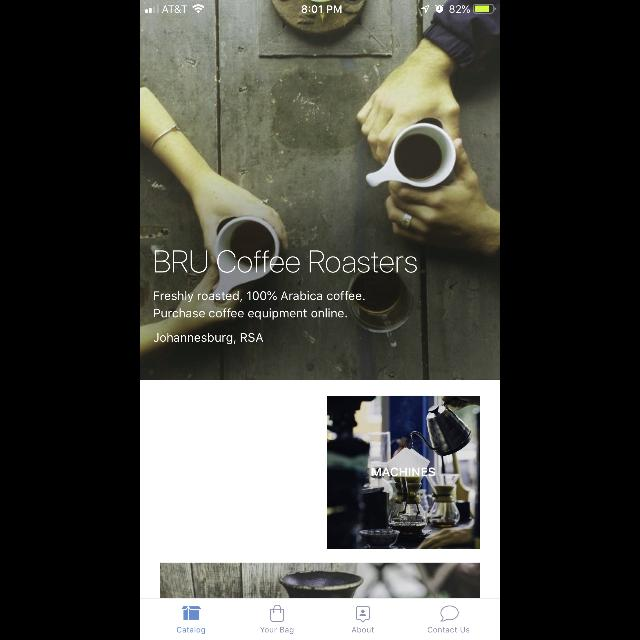icon: (440, 606, 458, 622), (270, 604, 284, 622), (356, 606, 370, 622)
image: (140, 14, 500, 380), (326, 396, 479, 548), (160, 562, 480, 598), (182, 606, 202, 620)
text: (155, 250, 417, 274), (153, 291, 364, 319), (154, 333, 264, 345), (372, 468, 436, 477), (428, 627, 470, 633), (177, 626, 205, 634), (260, 628, 294, 634), (352, 627, 374, 633)
uppertaskbar: (140, 0, 500, 14)
